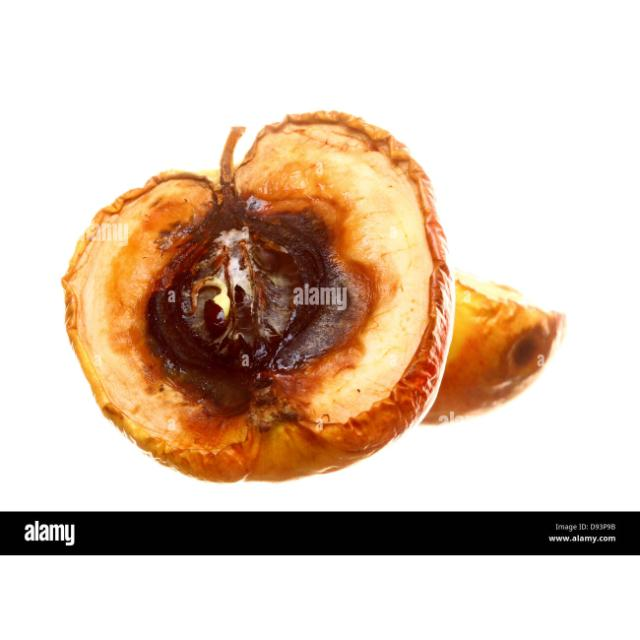organic: (60, 110, 567, 487)
